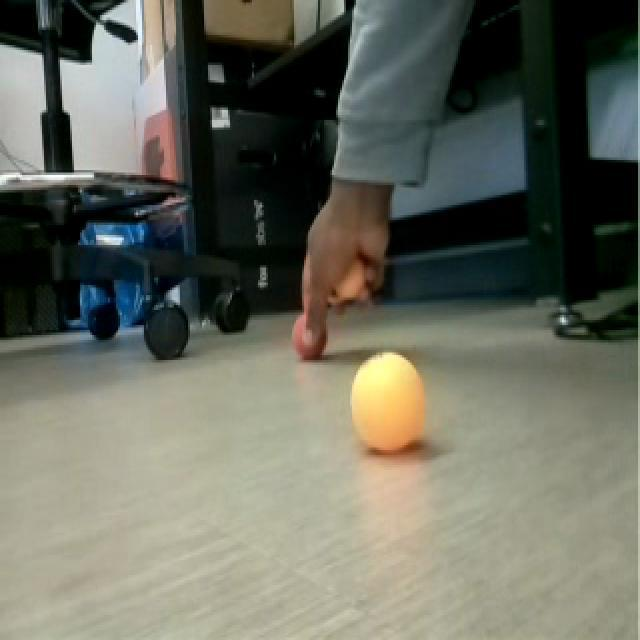ping-pong-ball: (348, 343, 432, 467), (292, 310, 327, 359), (334, 258, 366, 304)
